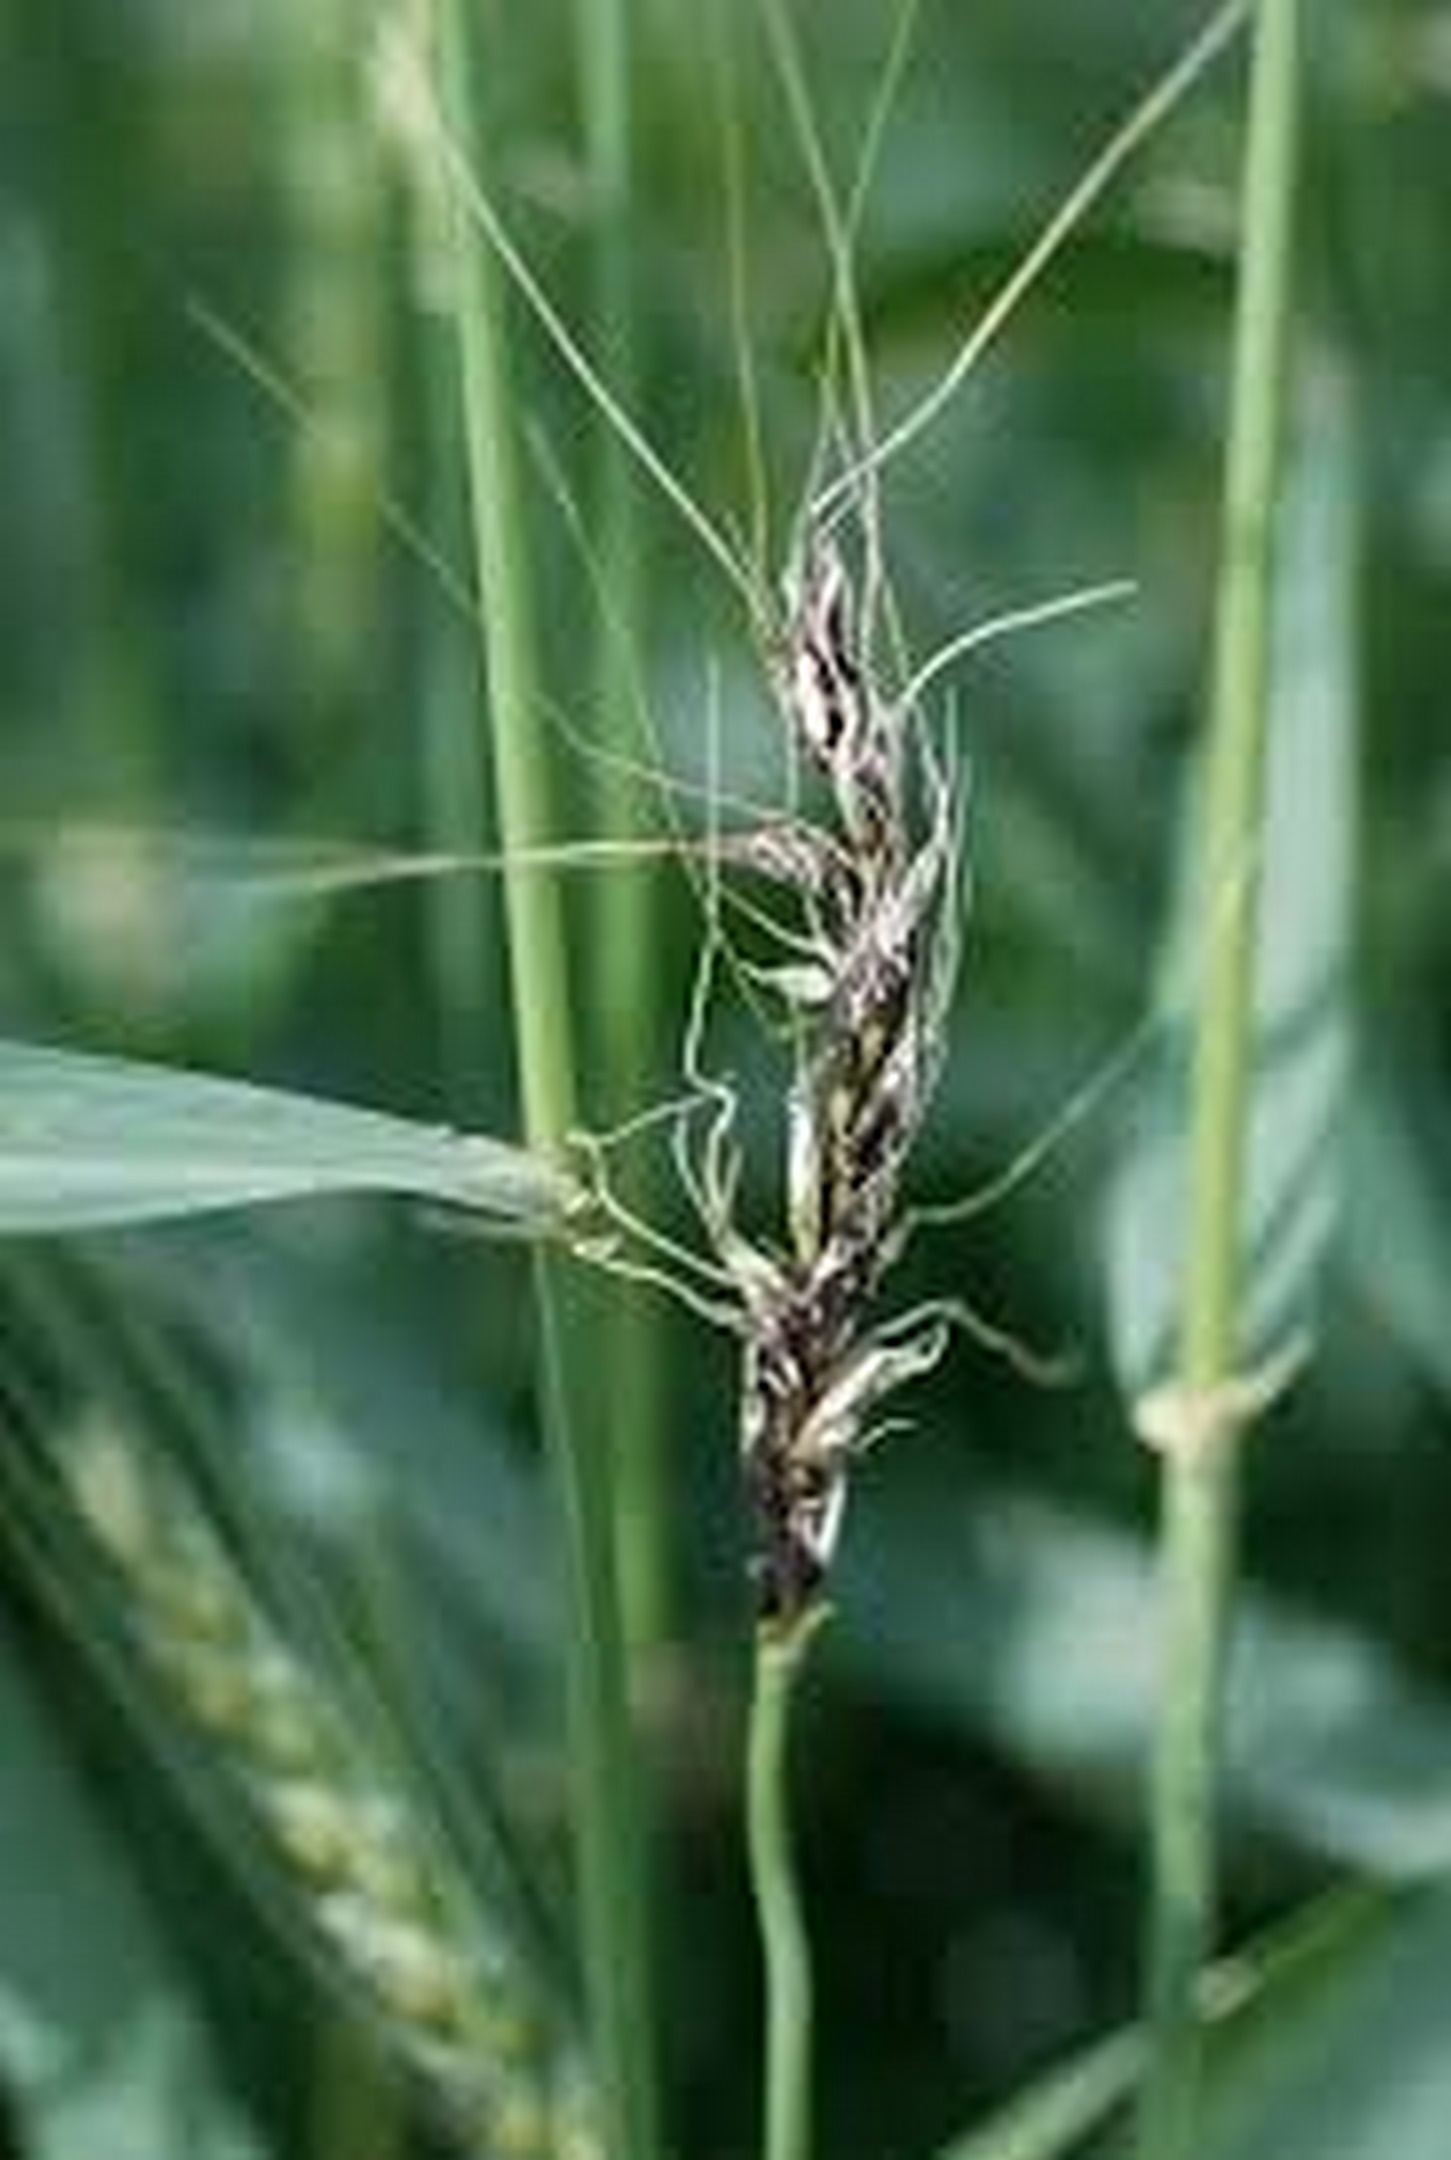Wheat Loose Smut: (656, 547, 1027, 1582)
